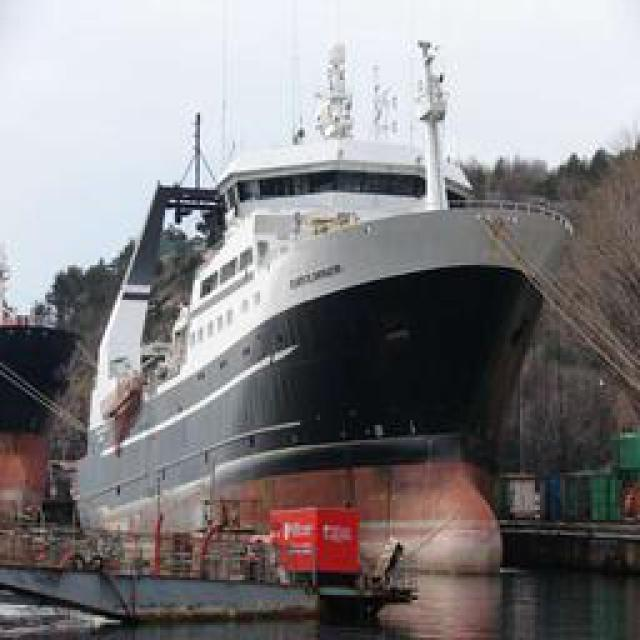Ship: (59, 7, 576, 582), (1, 231, 77, 540)
